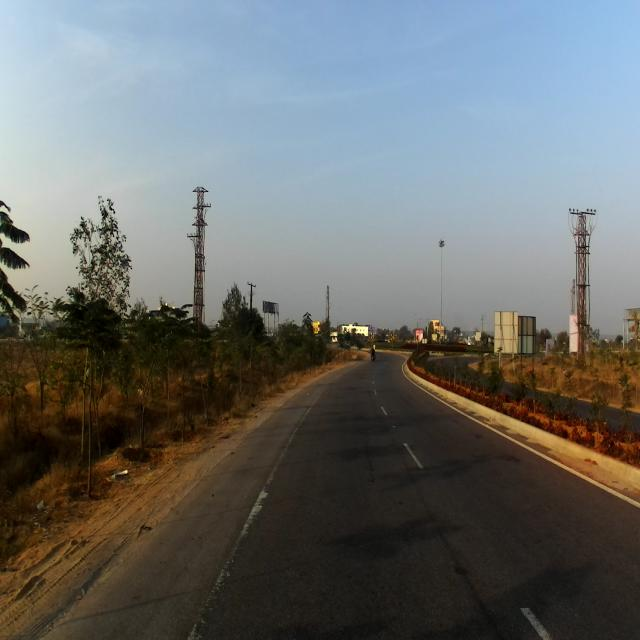tree ahead at: (52, 287, 115, 507)
